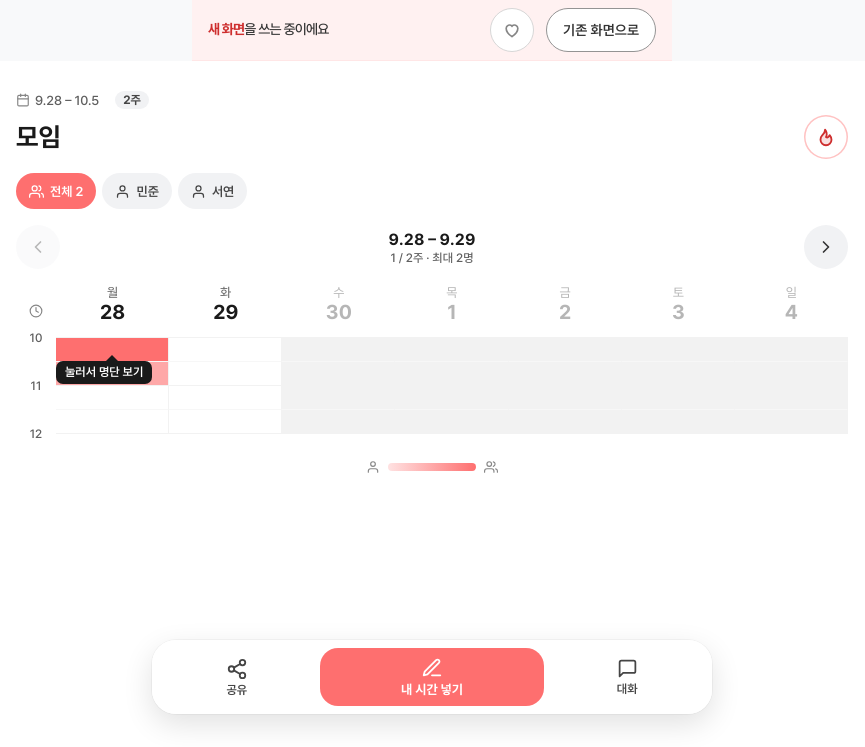
Test case: 보기 › 여러 명을 고르면 모두 되는 시간을 보이고 공유 상태에 남기며, 전체를 누르면 비운다
Expected: the heading "모임" is shown, [16,122,61,152]
Click the button with aria-label "민준. 고르기" at (137, 191), box [102,173,172,209]
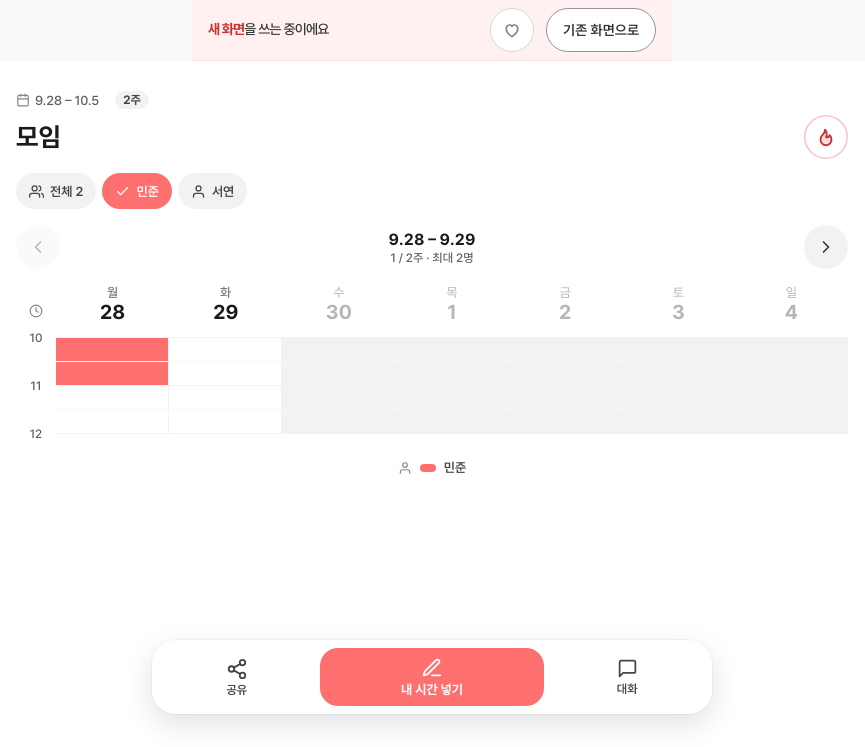
Click the button with aria-label "서연. 고르기" at (213, 191), box [178,173,247,209]
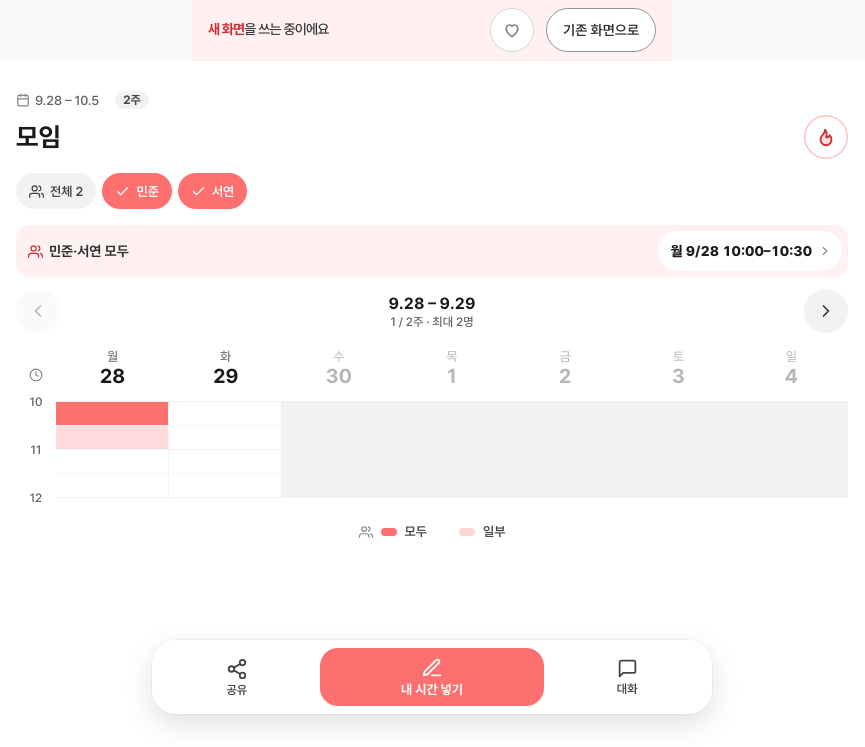
Expected: the text "민준·서연 모두" is shown, [28,243,129,259]
Expected: the button named "민준·서연 모두 되는 시간 9월 28일 (월) 10:00 ~ 10:30, 모두 1곳" is shown, [658,231,842,271]
Click the button with aria-label "전체 2명 보기" at (56, 191), box [16,173,96,209]
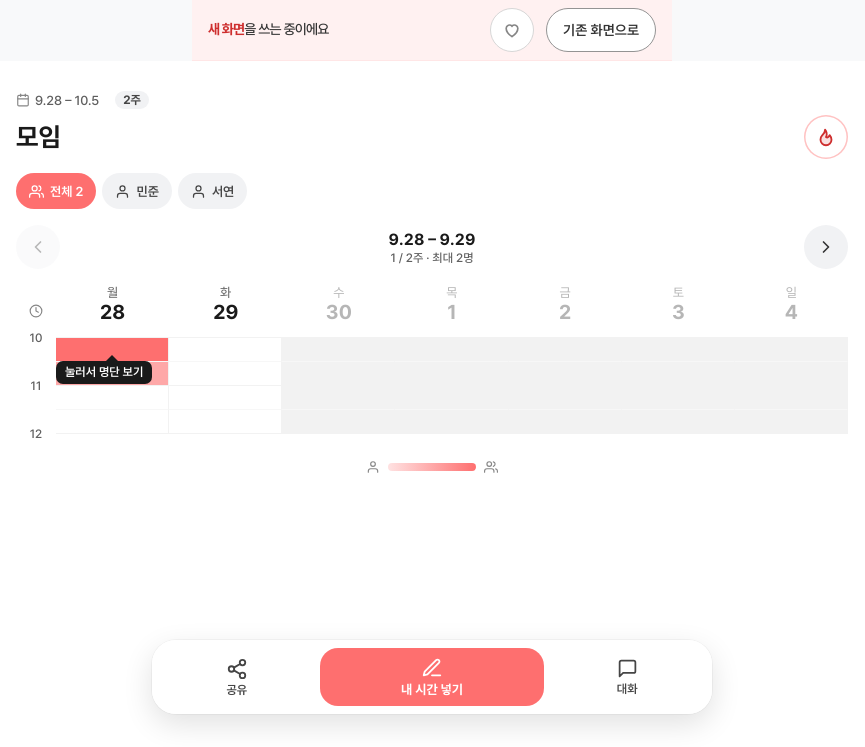
Expected: the text "민준·서연 모두" is gone
